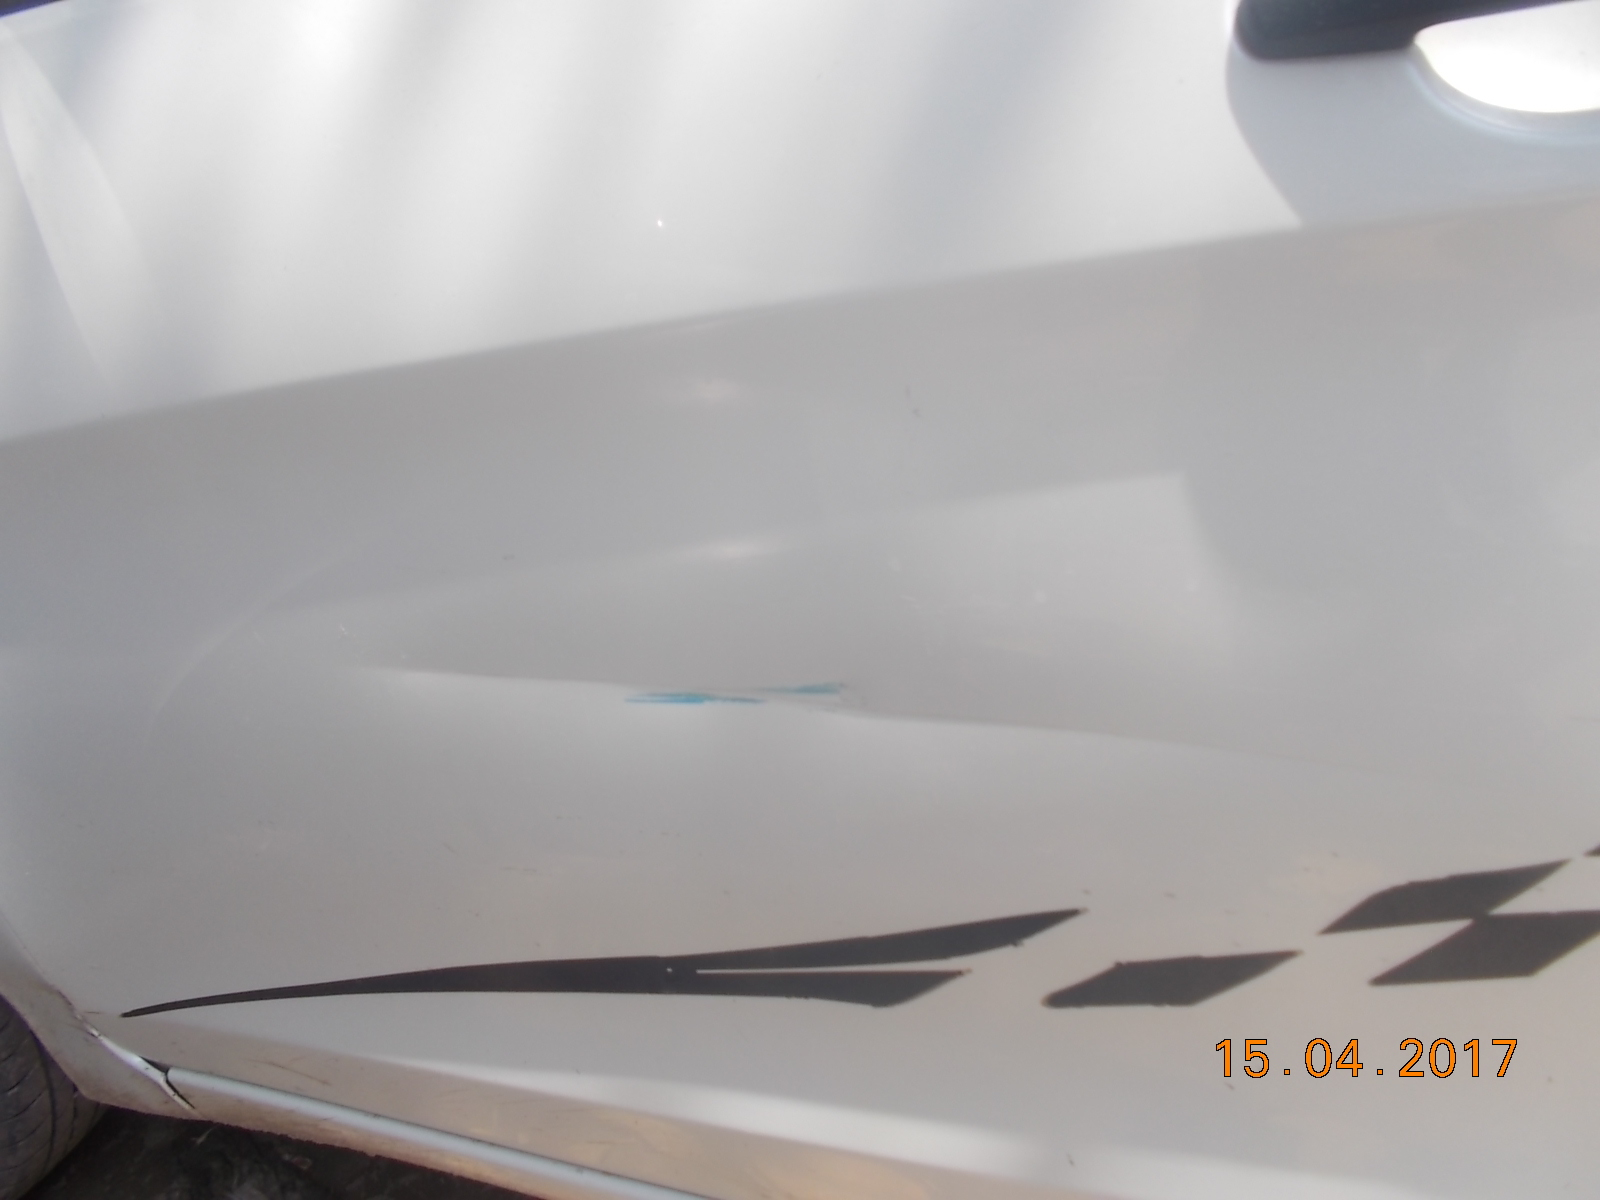Dent: (717, 655, 1134, 776), (404, 629, 687, 720)
